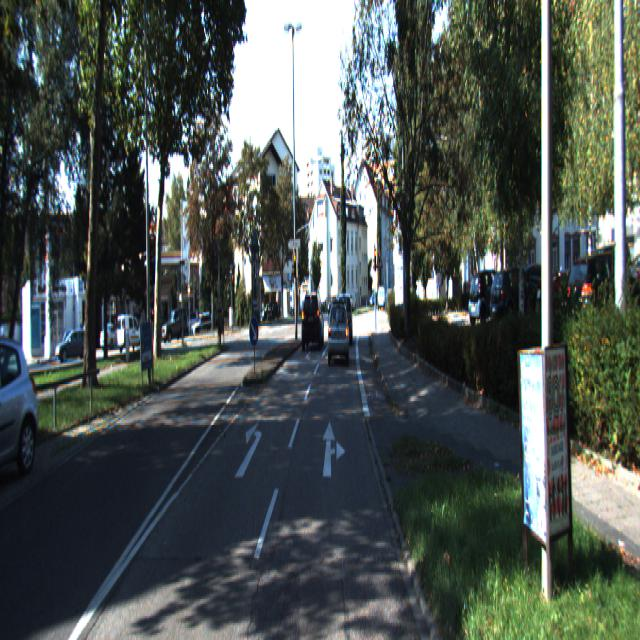Car: (0, 332, 41, 484), (490, 269, 545, 332), (469, 265, 517, 324), (328, 303, 348, 364), (303, 291, 324, 349), (337, 292, 353, 343)
